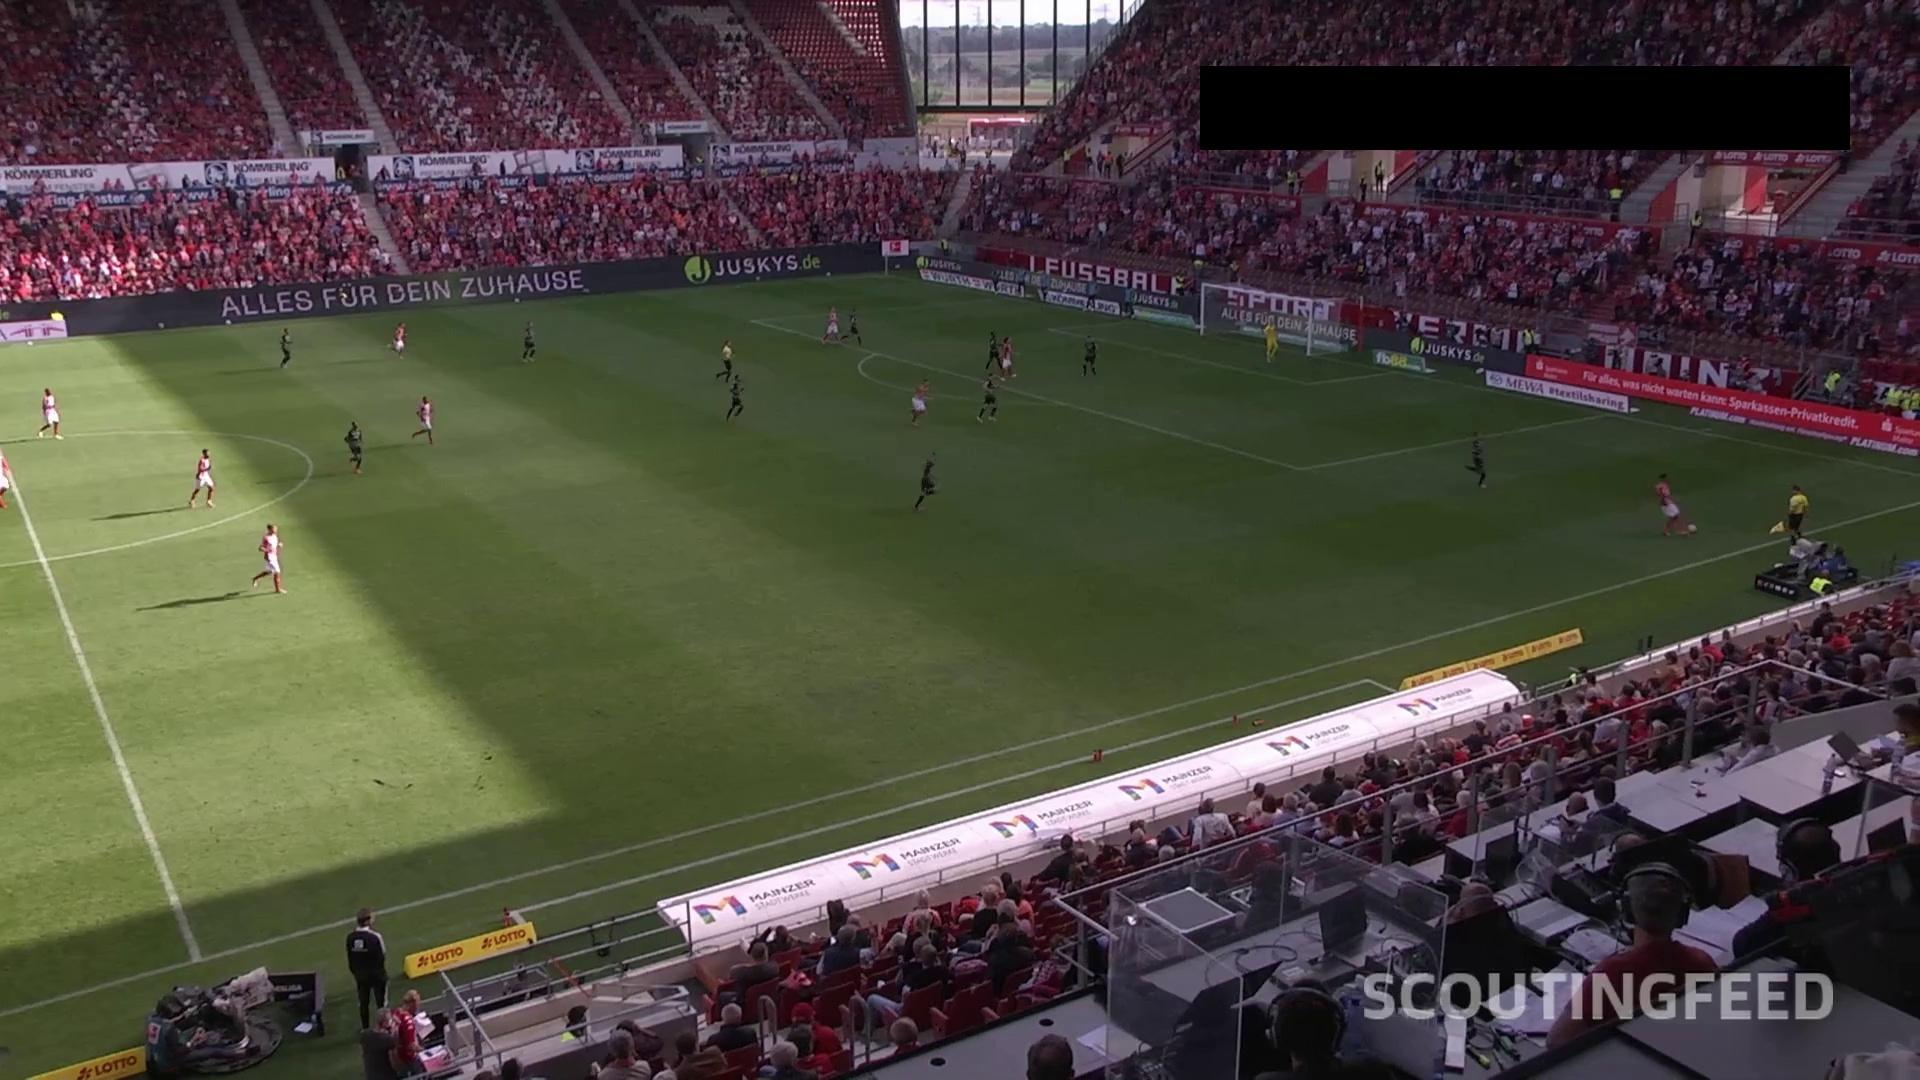Location-of-ball: (1684, 520, 1712, 531)
